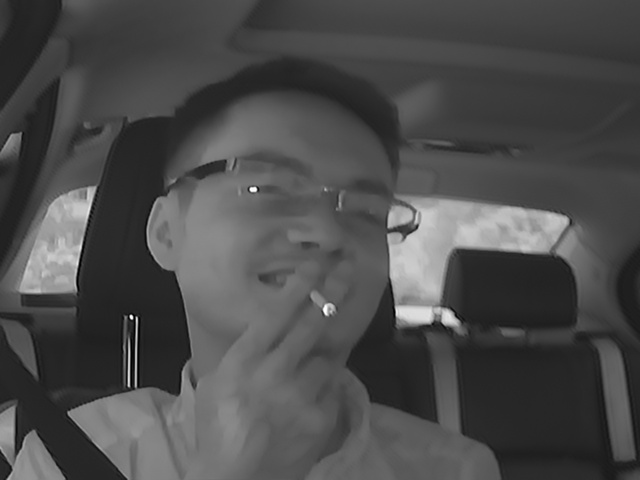hand: (217, 264, 358, 448)
